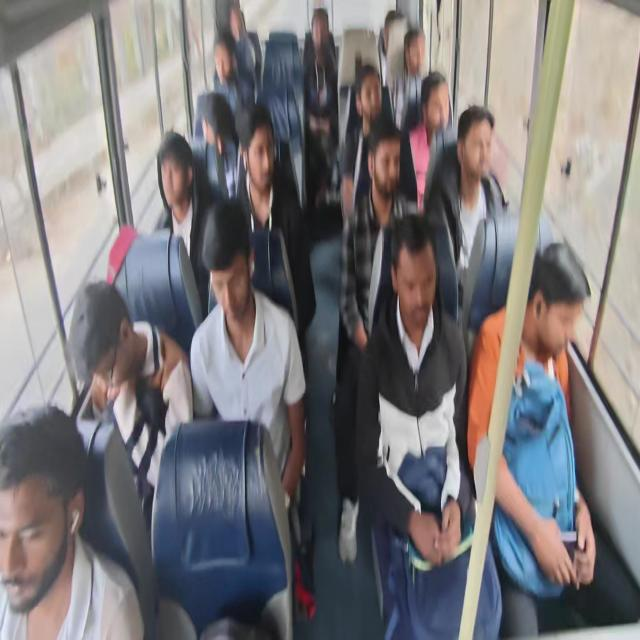person: (68, 2, 598, 637), (354, 212, 503, 638), (188, 197, 306, 636), (466, 240, 596, 636), (333, 118, 414, 564), (0, 405, 145, 639), (68, 278, 193, 528), (235, 105, 316, 348), (423, 103, 509, 324), (154, 130, 217, 318), (398, 70, 452, 214), (302, 8, 339, 211), (340, 71, 383, 226), (201, 92, 239, 199), (392, 27, 426, 131), (228, 3, 257, 106), (212, 30, 242, 115), (377, 8, 405, 88)
